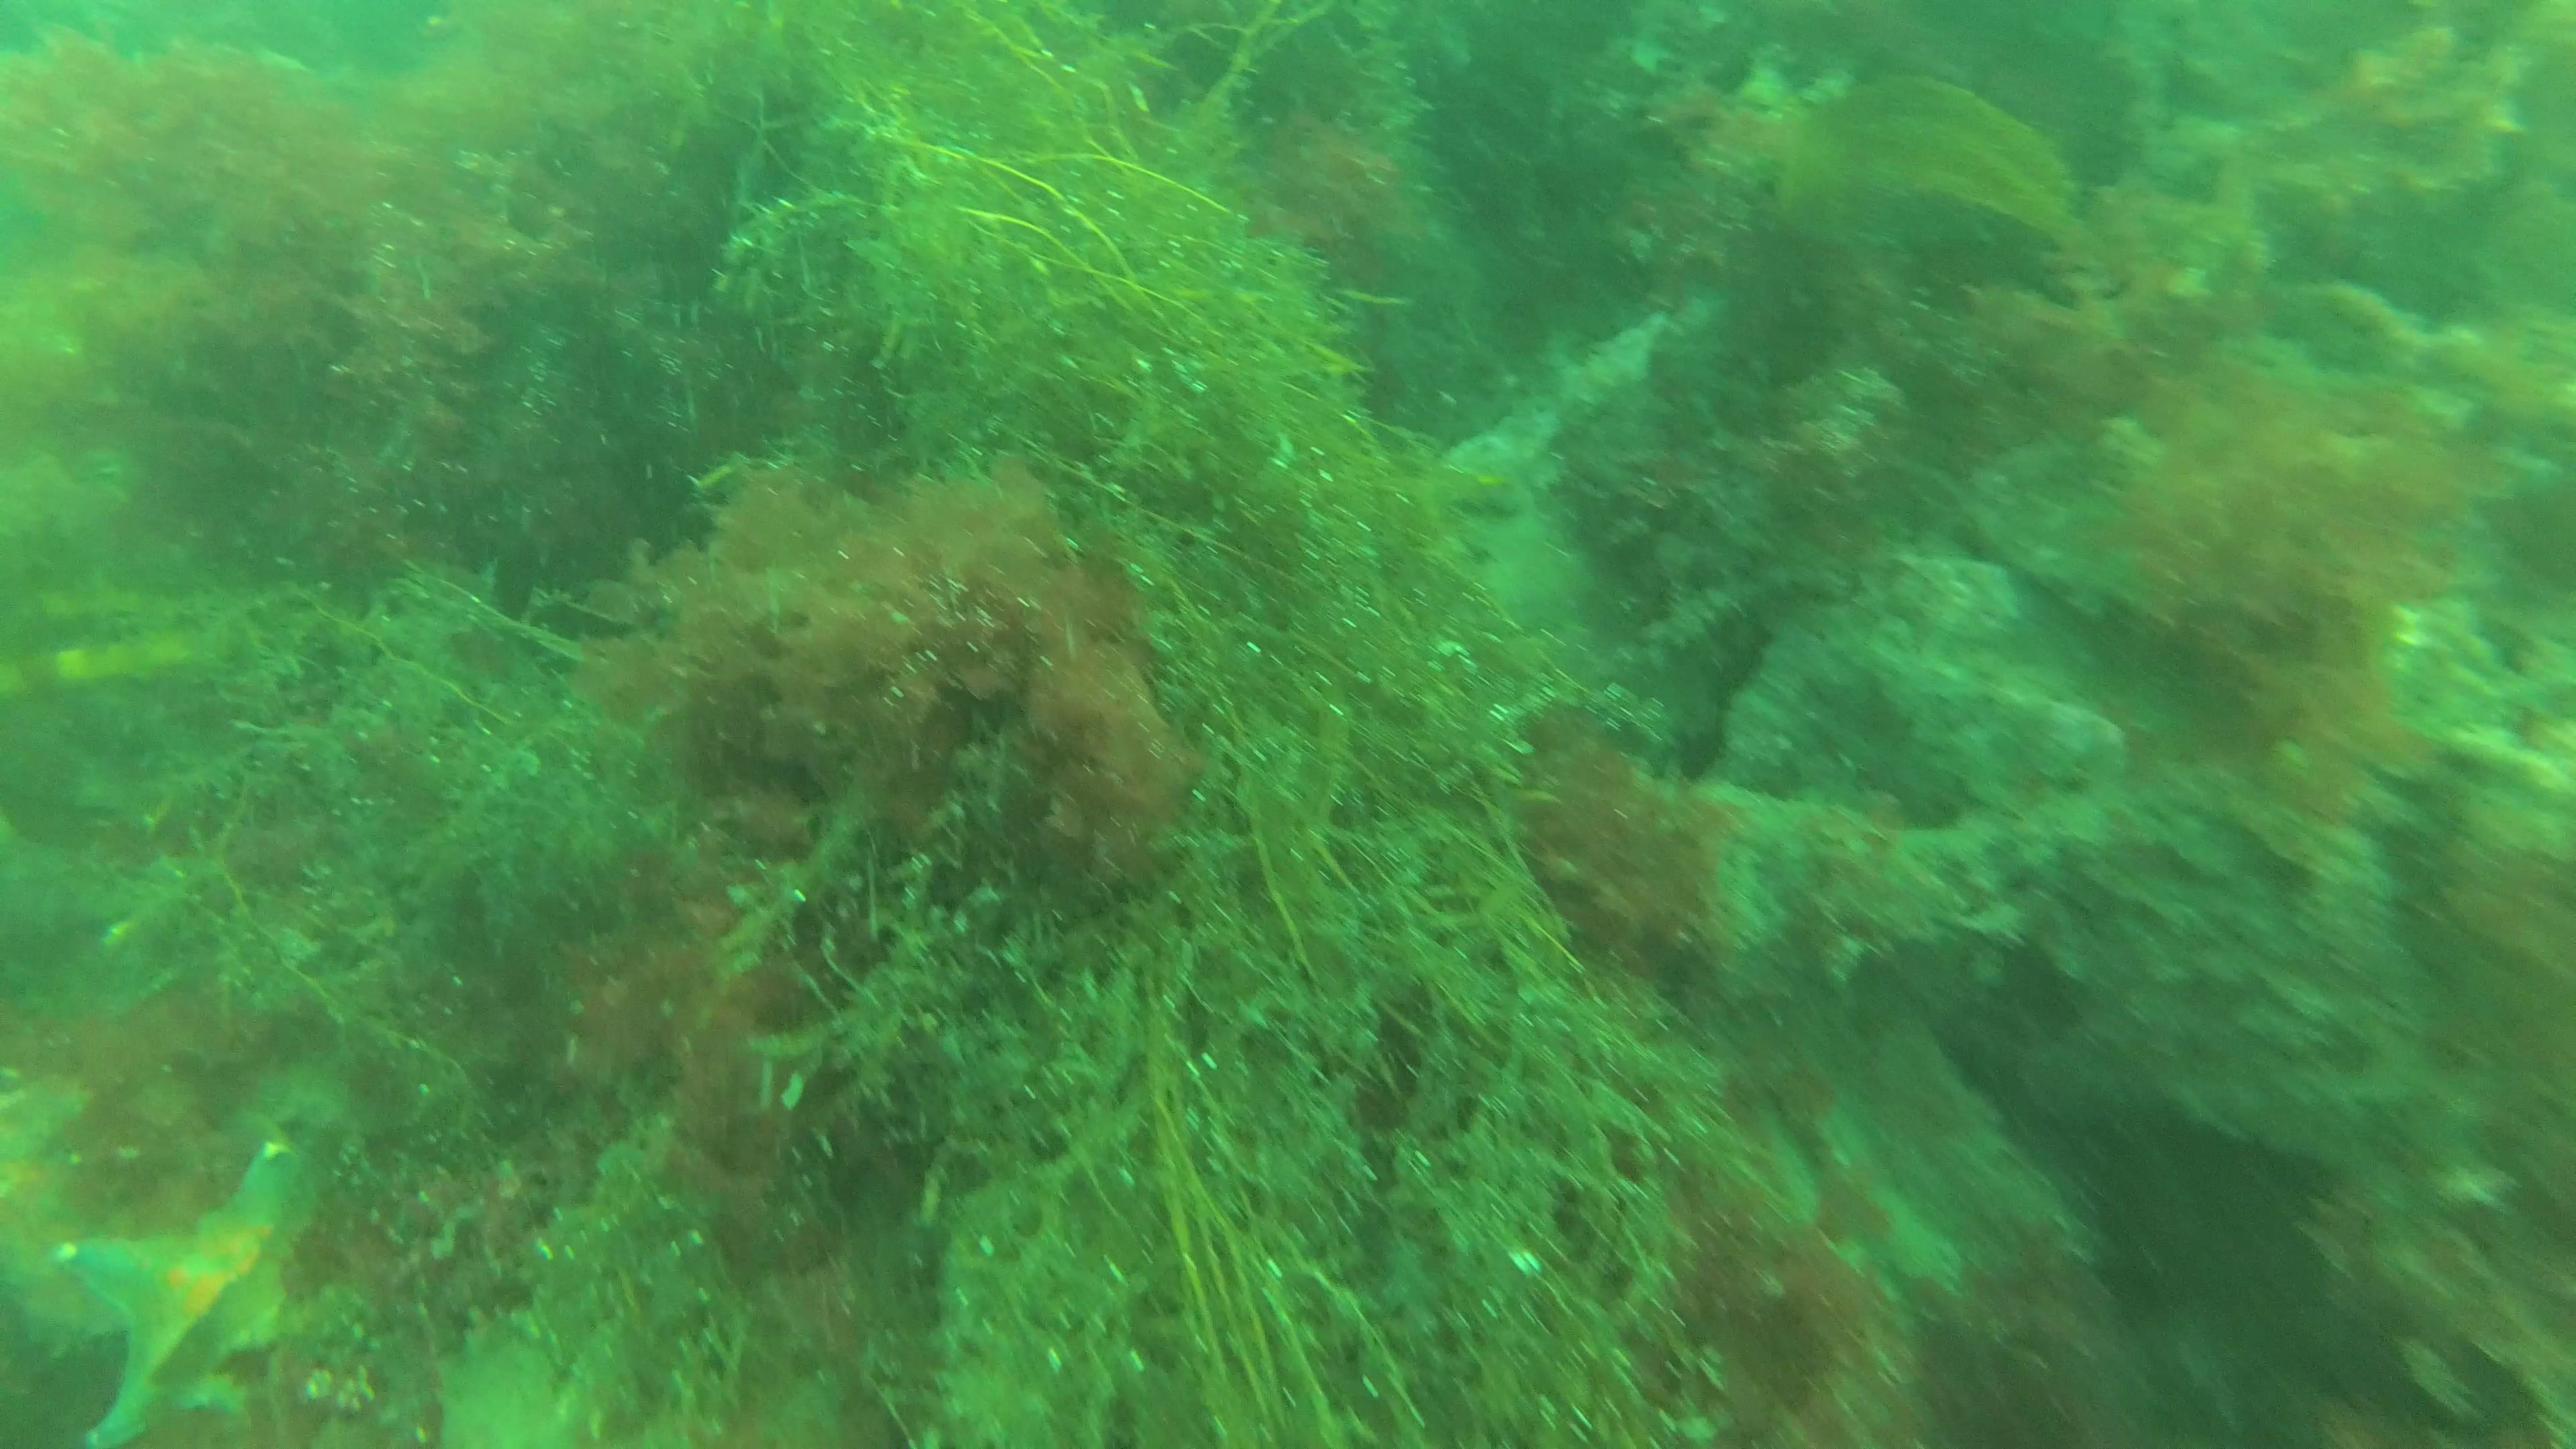starfish: (53, 1138, 393, 1449)
